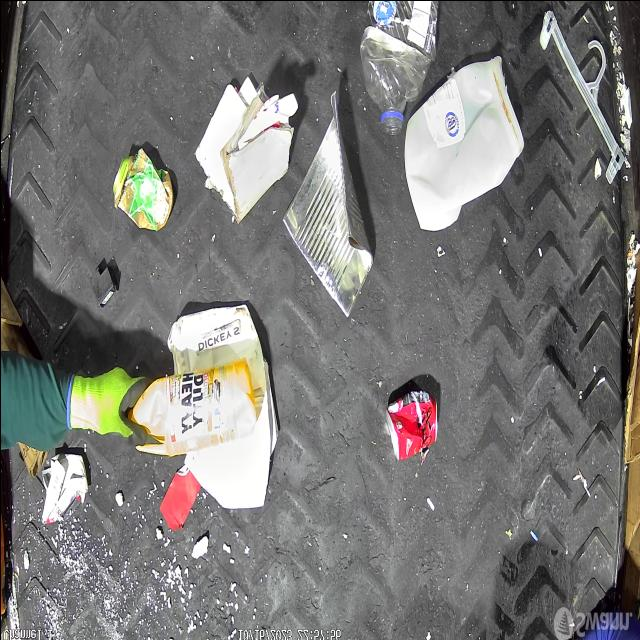can: (385, 388, 437, 459)
milk_jug: (402, 53, 524, 231)
non_white_jug: (128, 359, 256, 455)
plastic_bottle: (358, 0, 438, 135)
